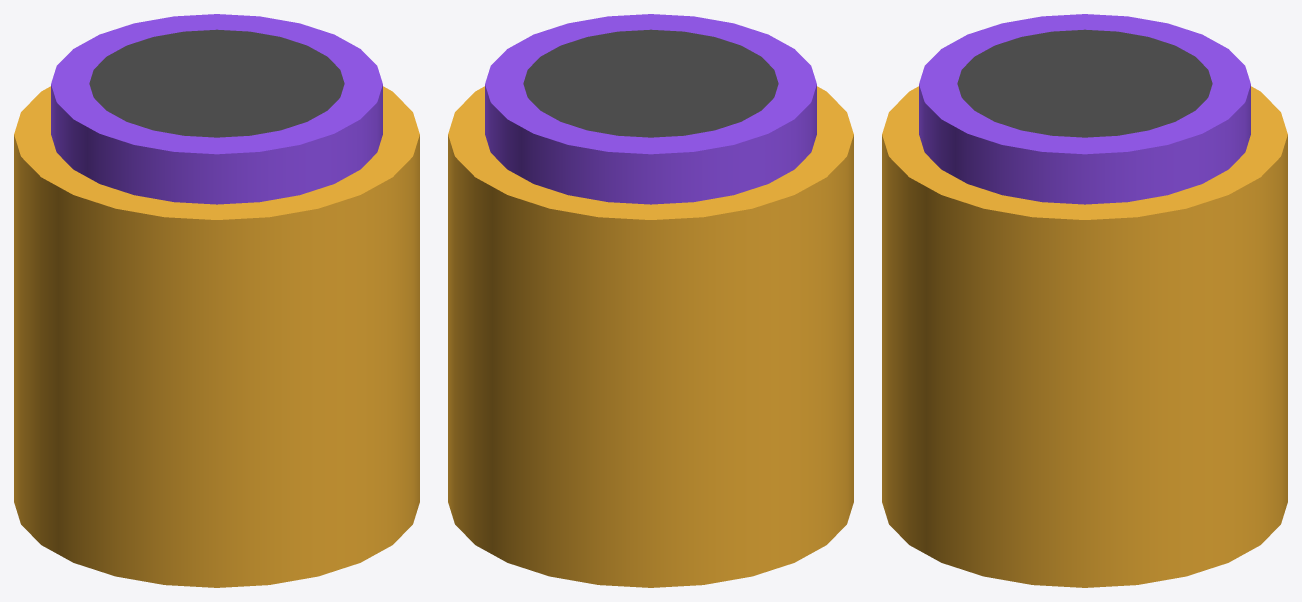
File: Button B.fbx
3 renders of one model, left to right at view 1: azimuth 30°, elevation 25°; view 2: azimuth 150°, elevation 25°; view 3: azimuth 270°, elevation 25°, orthographic.
Visible parts, largest first — view 1: Button B.001, Button B; view 2: Button B.001, Button B; view 3: Button B.001, Button B.
Part boxes in pixels (x1,y1,x2,y2): Button B.001: (14,86,419,587); Button B: (51,14,382,204); Button B.001: (448,86,853,587); Button B: (485,14,816,204); Button B.001: (882,86,1287,587); Button B: (919,14,1250,204).
Size of the model in its own units: 132 by 150 by 132.
